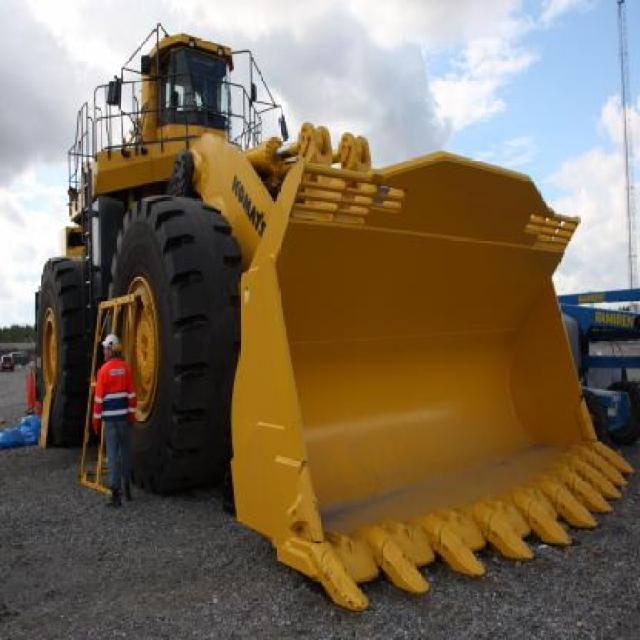buldozerpayloadergrader: (37, 22, 632, 602)
